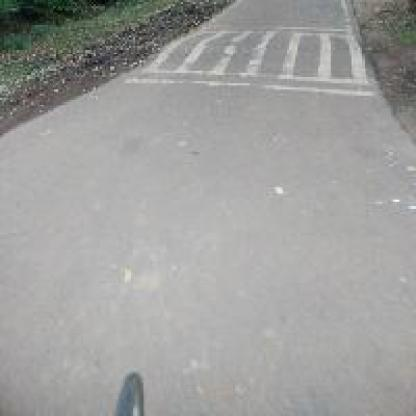Speed Bump: (137, 23, 364, 100)
